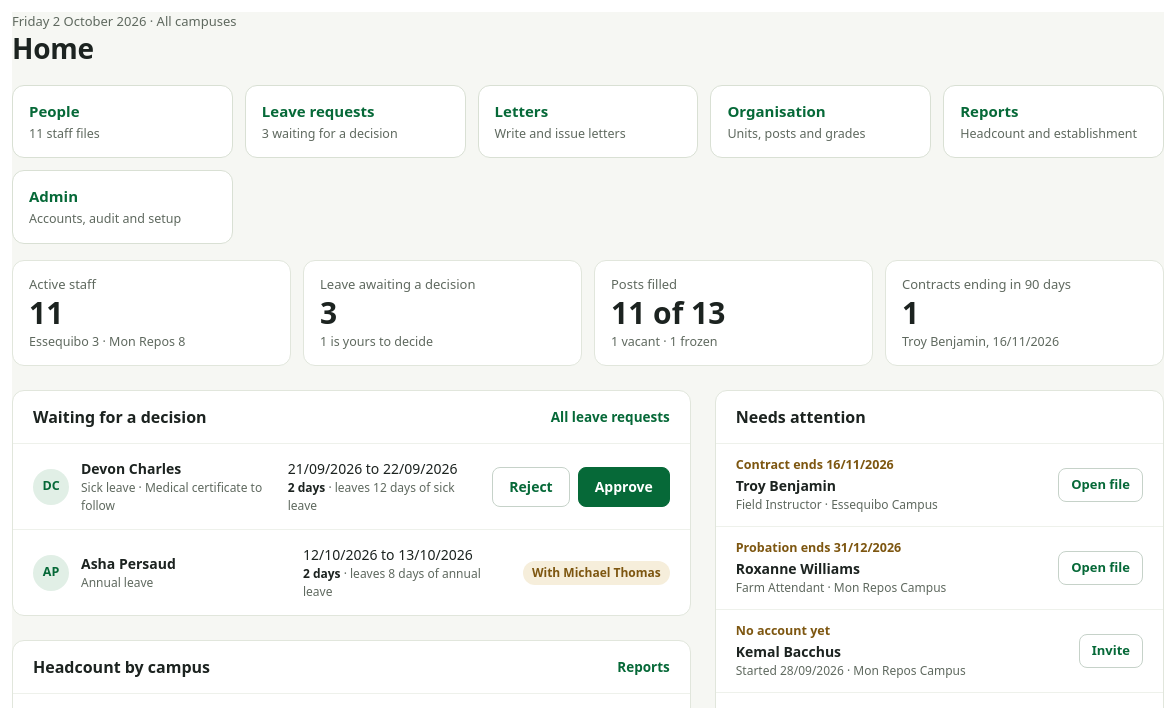
Test: Home for Human Resources › asks for the reason before rejecting, and can go back
Click the button with aria-label "Reject sick leave for Devon Charles": (531, 487) x1=492 y1=467 x2=570 y2=507
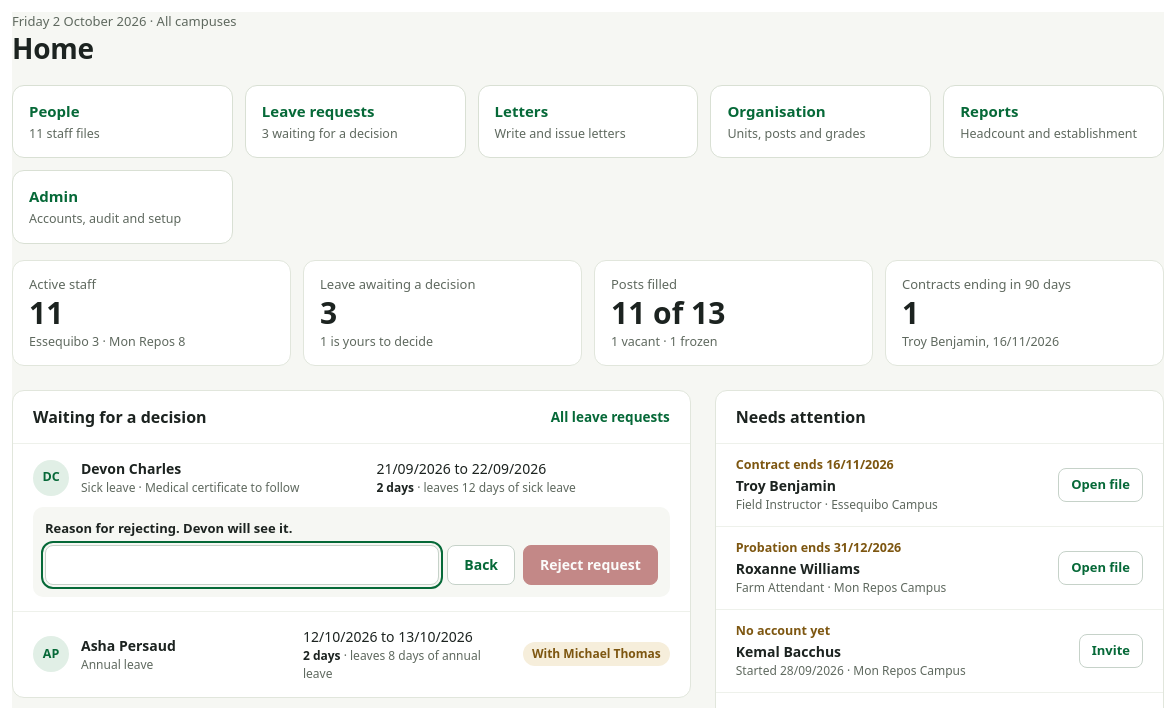
Result: the button "Reject request" is disabled at x1=523 y1=545 x2=658 y2=585
Click the button "Back": (481, 565) x1=447 y1=545 x2=515 y2=585
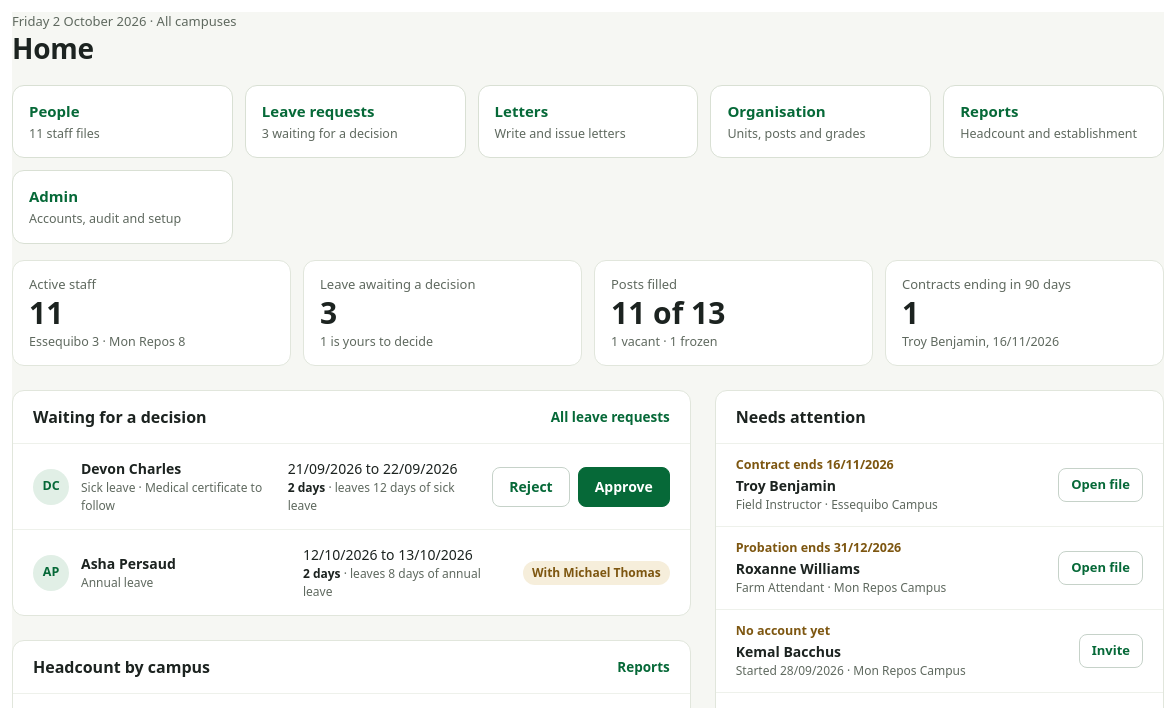
Result: the form is gone
Click the button with aria-label "Reject sick leave for Devon Charles": (531, 487) x1=492 y1=467 x2=570 y2=507
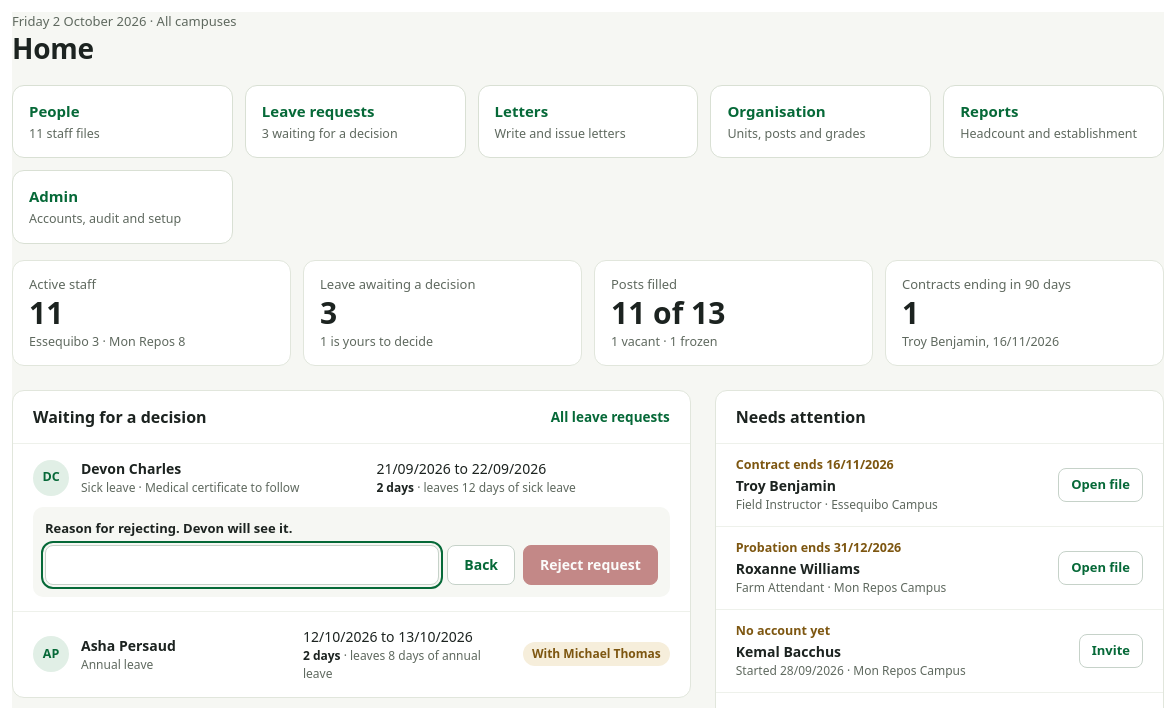
In the field labelled "Reason for rejecting. Devon will see it.": (242, 565) x1=45 y1=545 x2=439 y2=585, type "Cover is needed that week"
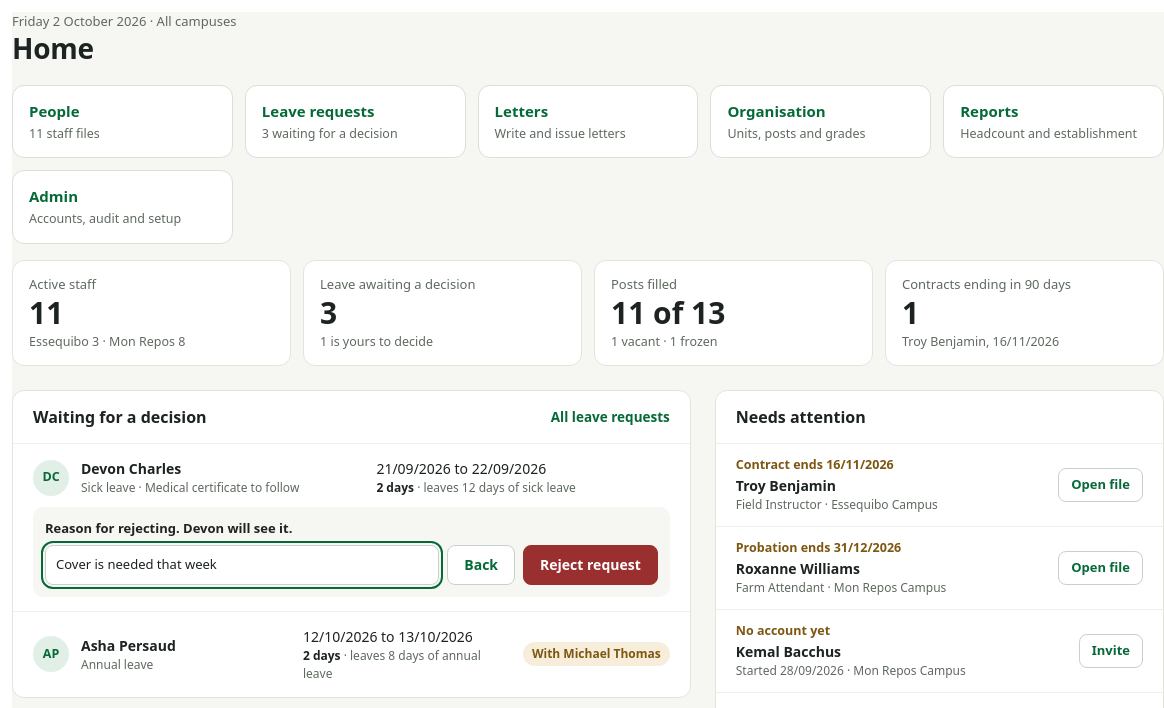
Click the button "Reject request": (590, 565) x1=523 y1=545 x2=658 y2=585
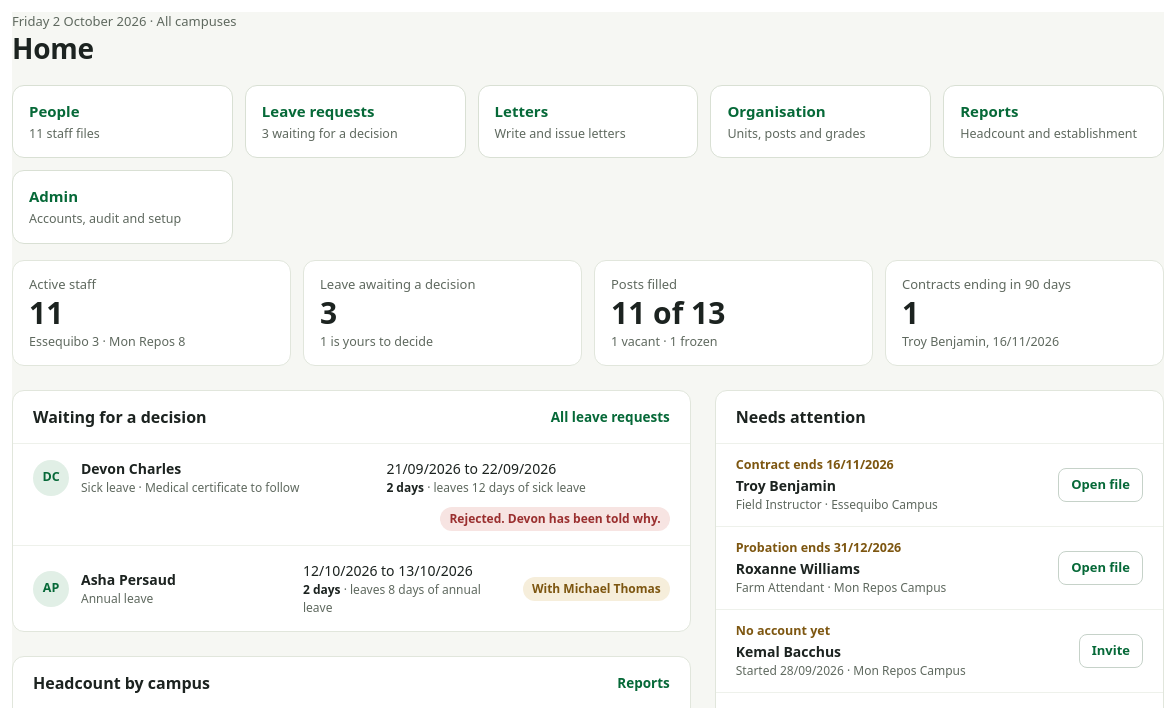
Result: the message reads "Rejected. Devon has been told why." at x1=450 y1=510 x2=661 y2=527
